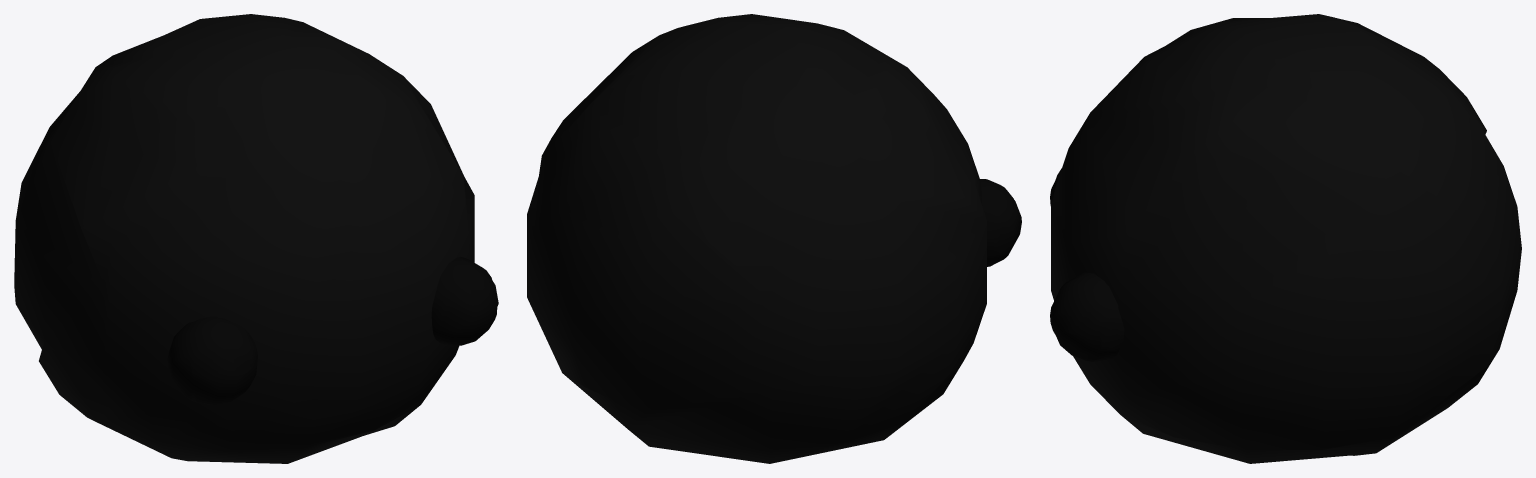
The model's file is coco butter.glb.
The picture shows the model from 3 angles, left to right: view 1: azimuth 30°, elevation 25°; view 2: azimuth 150°, elevation 25°; view 3: azimuth 270°, elevation 25°; orthographic projection.
Parts seen in each view (by area): view 1: Sphere, Sphere.001; view 2: Sphere, Sphere.001; view 3: Sphere, Sphere.001.
Boxes of the visible parts, x1=… form: Sphere: x1=14, y1=14, x2=474, y2=463; Sphere.001: x1=167, y1=256, x2=498, y2=404; Sphere: x1=527, y1=14, x2=986, y2=463; Sphere.001: x1=980, y1=179, x2=1021, y2=266; Sphere: x1=1051, y1=14, x2=1521, y2=463; Sphere.001: x1=1050, y1=168, x2=1124, y2=361.
Size of the model in its own units: 1.94 by 1.73 by 1.98.
Materials: 2 (1 with a texture image).
